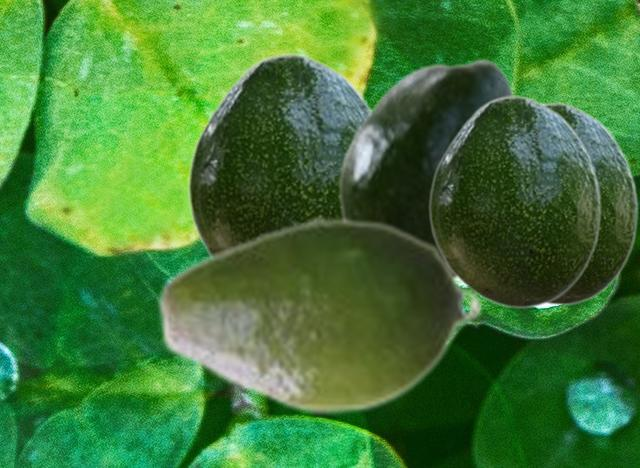avocado: (154, 213, 484, 417), (187, 53, 372, 254), (428, 95, 600, 308), (337, 57, 517, 240), (544, 102, 637, 305)
